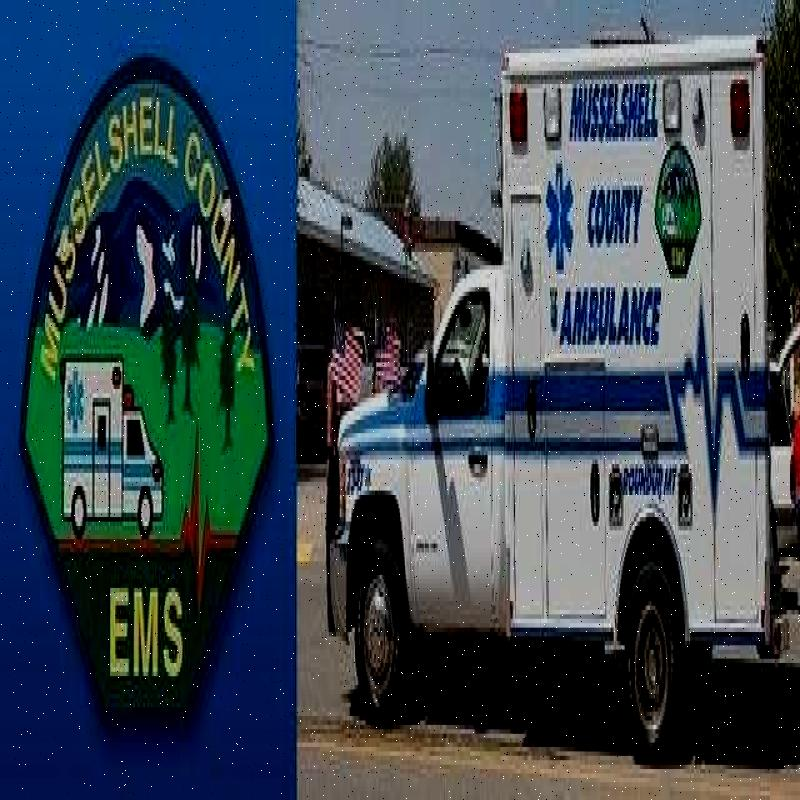AmbulanceSiren: (506, 89, 572, 160), (732, 78, 754, 171), (663, 75, 683, 142)
